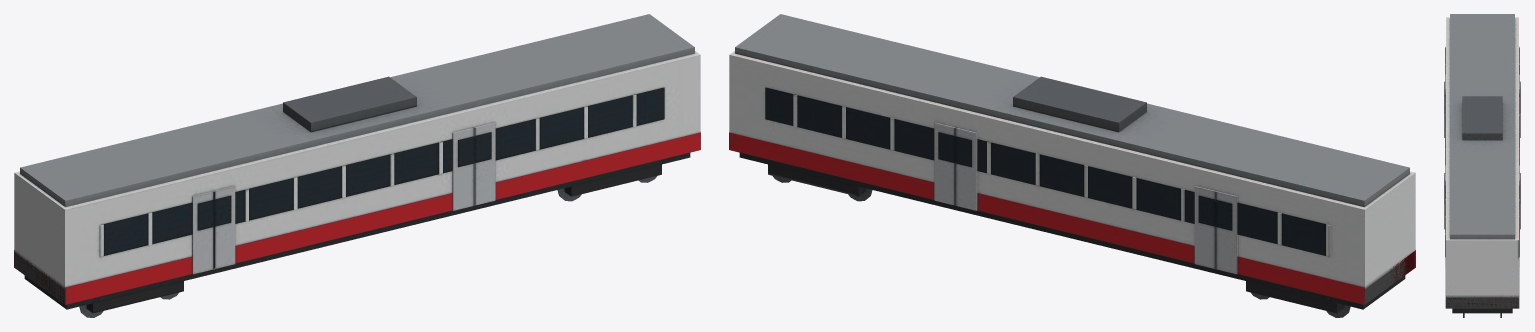
Rendered from pociag_mid.glb.
3 renders of one model, left to right at view 1: azimuth 30°, elevation 25°; view 2: azimuth 150°, elevation 25°; view 3: azimuth 270°, elevation 25°, orthographic. The views are drawn at different scales.
Parts seen in each view (by area): view 1: pociag_mid; view 2: pociag_mid; view 3: pociag_mid.
Part boxes in pixels (<box>): pociag_mid: <box>14,14,700,317</box>; pociag_mid: <box>729,14,1415,317</box>; pociag_mid: <box>1444,14,1520,317</box>.
Bounding box in the file's own units: 21 × 4.5 × 3.04.
Materials: 1 (1 with a texture image).
